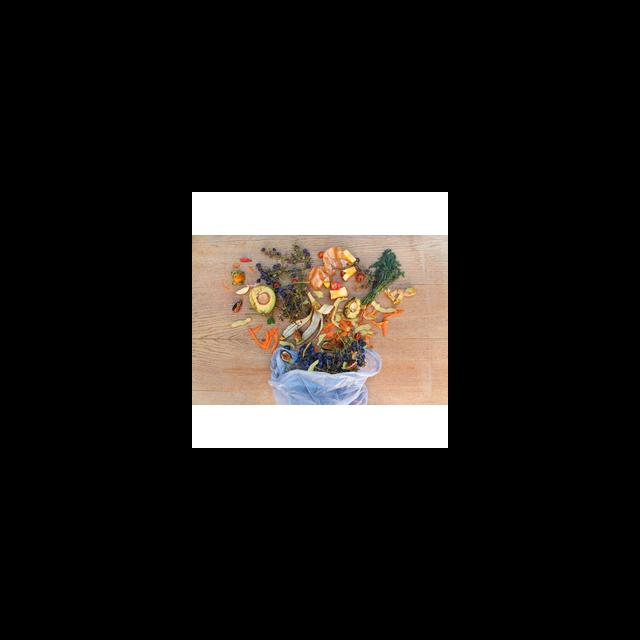food_waste: (233, 245, 406, 362)
plastic: (268, 371, 380, 404)
